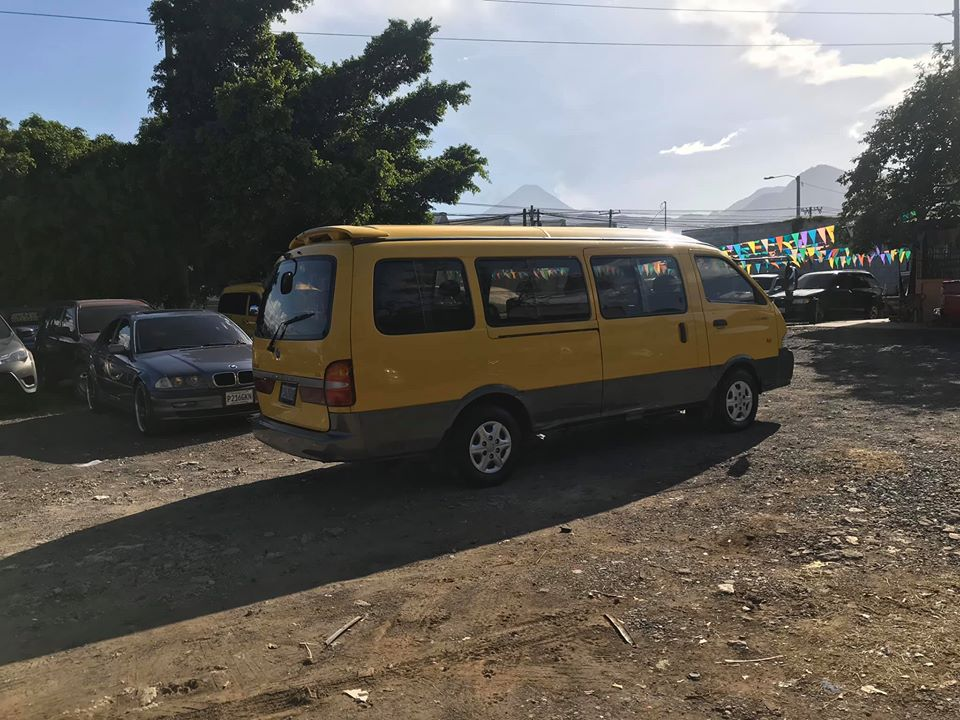bus: (249, 215, 796, 469)
